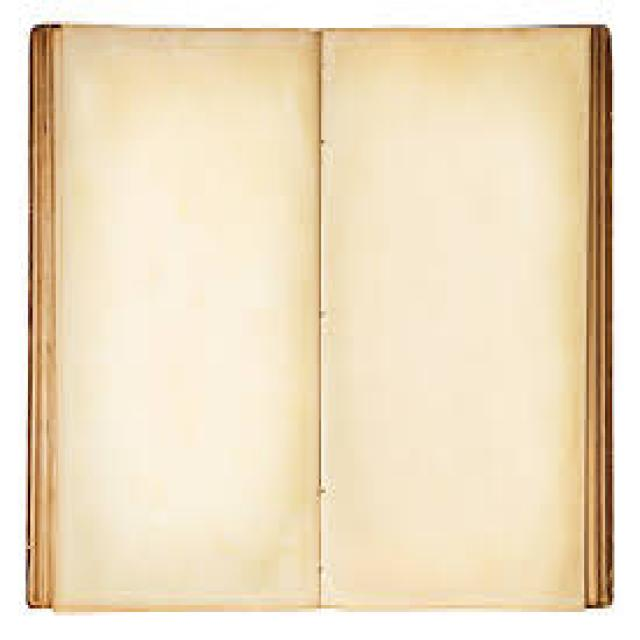paper: (28, 18, 612, 612), (317, 21, 584, 609), (54, 21, 317, 609)
